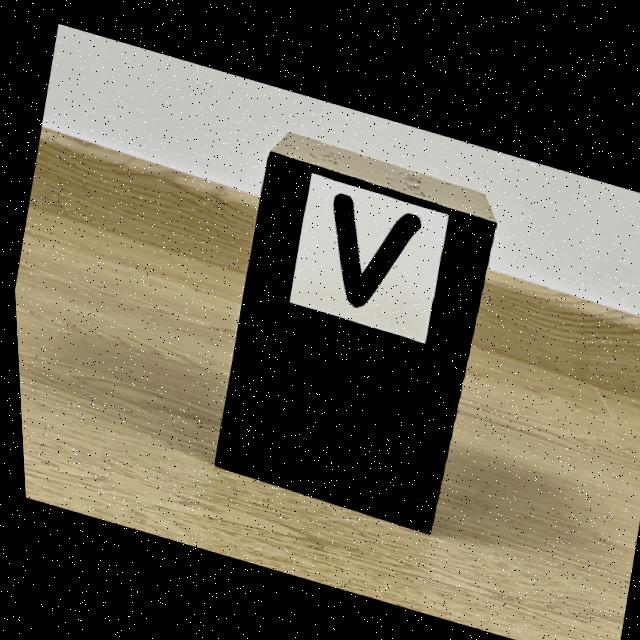V: (331, 188, 418, 301)
